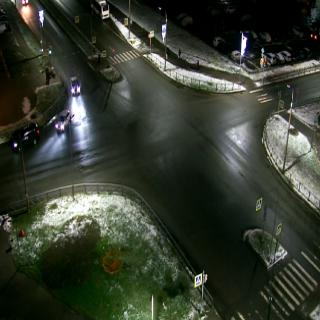large-vehicle: (90, 0, 110, 21)
small-vehicle: (12, 123, 40, 152), (57, 110, 72, 134), (70, 75, 81, 98), (265, 52, 276, 66), (281, 48, 292, 62), (213, 37, 226, 48), (231, 50, 244, 61), (0, 20, 11, 31), (274, 52, 284, 64), (22, 0, 28, 9)
